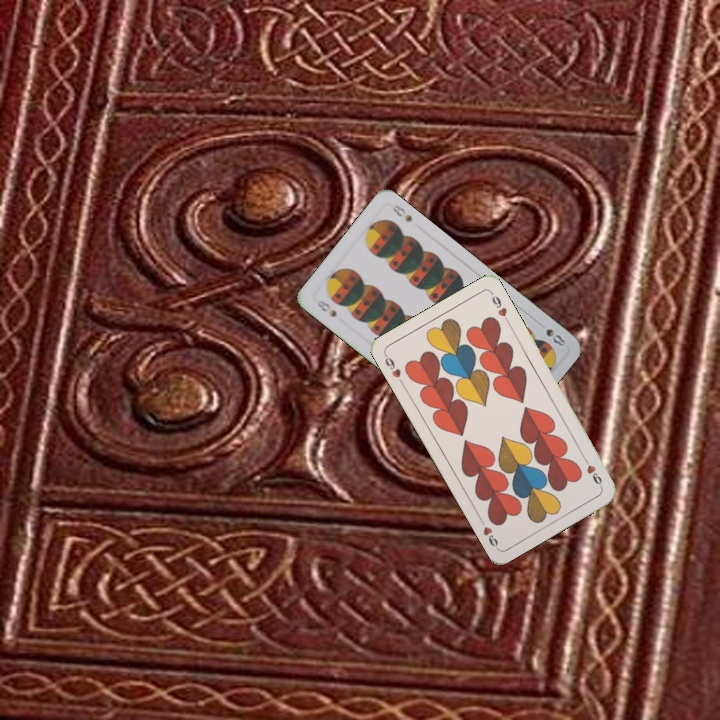H9: (380, 350, 406, 387), (579, 453, 605, 490)
S8: (534, 318, 568, 349), (313, 296, 339, 320)
